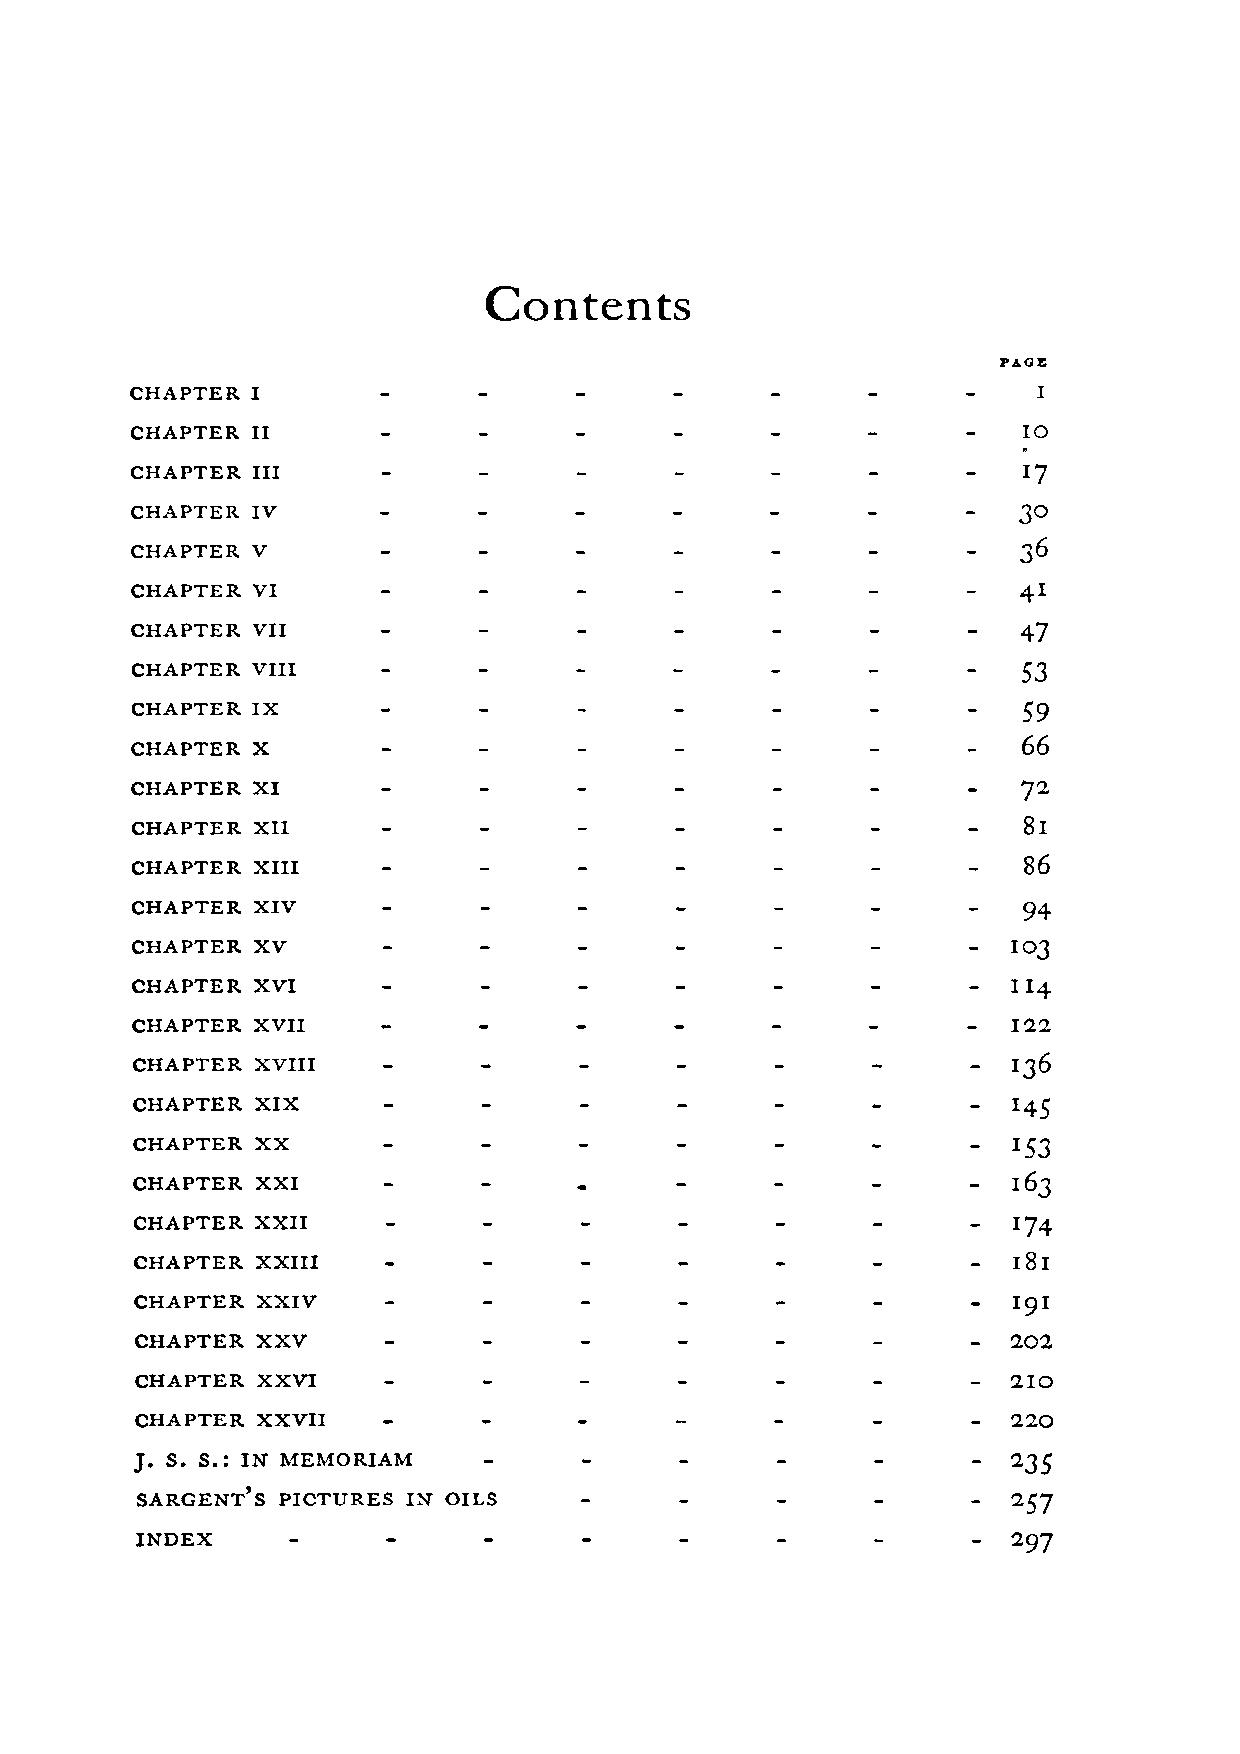TOC_chapter: (127, 1447, 420, 1474), (136, 1487, 499, 1507), (136, 1408, 329, 1428), (130, 1172, 301, 1194), (127, 1372, 323, 1390), (129, 974, 299, 996), (132, 1251, 321, 1270), (129, 1015, 305, 1035), (129, 1053, 317, 1072), (122, 378, 264, 403), (133, 1291, 315, 1310), (127, 658, 297, 678), (130, 1095, 299, 1115), (129, 896, 295, 917), (127, 421, 274, 444), (129, 777, 279, 798), (127, 580, 285, 600), (132, 1333, 309, 1350), (130, 1213, 306, 1231), (130, 817, 291, 836), (129, 698, 278, 718), (134, 1133, 290, 1151), (129, 738, 272, 758), (127, 858, 301, 874), (125, 460, 280, 478), (127, 621, 290, 637), (132, 939, 287, 954), (125, 503, 275, 518), (129, 542, 272, 557), (132, 1529, 213, 1549)
TOC_pagenumber: (1006, 1526, 1053, 1557), (1011, 1169, 1056, 1198), (1009, 1486, 1055, 1515), (1011, 1212, 1055, 1241), (1009, 1051, 1055, 1079), (1012, 1133, 1056, 1161), (1009, 1092, 1055, 1119), (1006, 1369, 1056, 1392), (1011, 934, 1053, 960), (1011, 1409, 1060, 1431), (1011, 976, 1053, 1000), (1008, 1290, 1049, 1314), (1006, 1453, 1056, 1474), (1019, 534, 1051, 564), (1021, 896, 1055, 925), (1009, 1248, 1049, 1271), (1019, 776, 1053, 801), (1020, 811, 1049, 840), (1011, 1330, 1055, 1349), (1019, 731, 1049, 757), (1020, 852, 1053, 875), (1009, 1015, 1049, 1033), (1019, 621, 1049, 644), (1021, 458, 1051, 480), (1020, 582, 1049, 603), (1019, 420, 1052, 437), (1021, 658, 1045, 682), (1023, 698, 1047, 722), (1021, 501, 1045, 523), (1032, 382, 1045, 405)
chapter: (471, 274, 691, 323)
